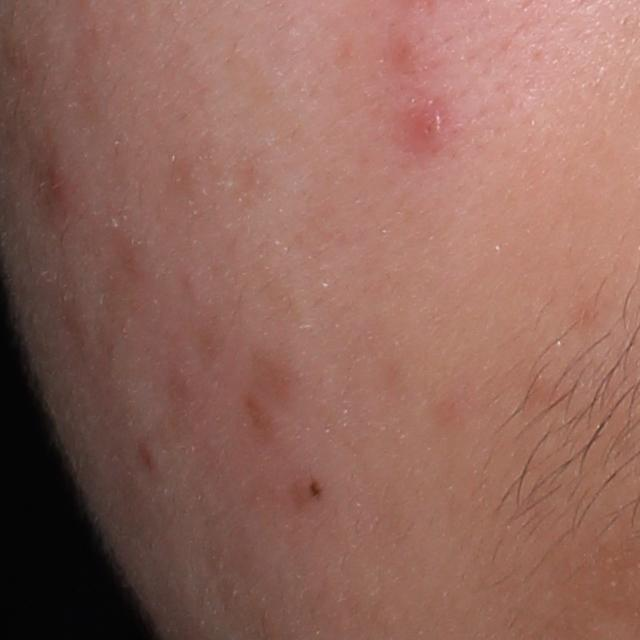nevus: (309, 477, 322, 501)
papule: (401, 97, 457, 161), (44, 164, 68, 203)
